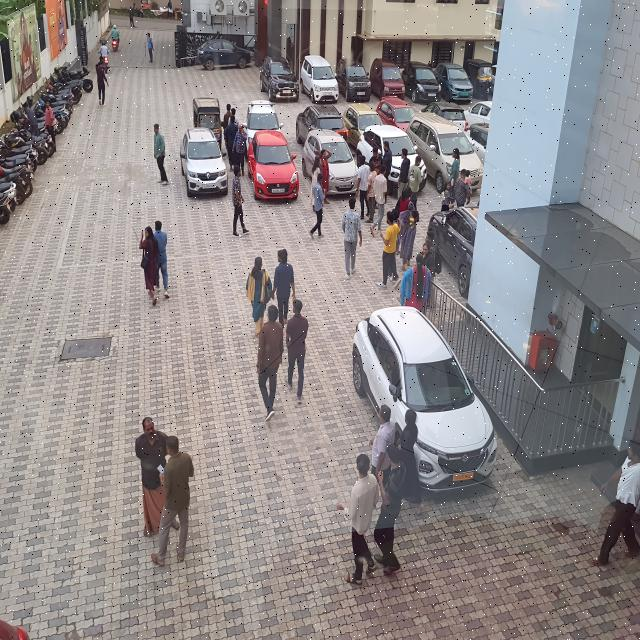humans: (590, 438, 640, 570), (149, 431, 195, 570), (335, 453, 379, 587), (132, 415, 165, 541), (377, 442, 403, 576), (396, 407, 427, 517), (270, 246, 295, 332), (367, 403, 395, 478), (244, 255, 269, 339), (377, 209, 402, 290), (399, 252, 431, 315), (154, 220, 176, 304), (340, 197, 362, 280), (139, 226, 159, 309), (232, 163, 250, 240), (397, 201, 417, 270), (308, 172, 327, 243), (370, 164, 388, 237), (152, 123, 172, 187), (423, 229, 438, 312), (354, 156, 370, 220), (409, 153, 427, 203), (320, 147, 334, 207), (223, 114, 237, 173), (232, 123, 246, 178), (366, 160, 376, 224), (396, 145, 408, 198), (95, 60, 108, 108), (420, 240, 438, 271), (447, 147, 460, 189), (452, 168, 466, 207), (310, 154, 320, 208), (460, 170, 474, 206), (394, 185, 411, 213), (381, 139, 393, 178), (368, 146, 382, 168), (95, 38, 109, 58), (147, 31, 155, 64), (222, 102, 231, 131), (111, 25, 120, 54), (444, 181, 452, 211), (166, 0, 175, 21), (229, 106, 238, 125)
